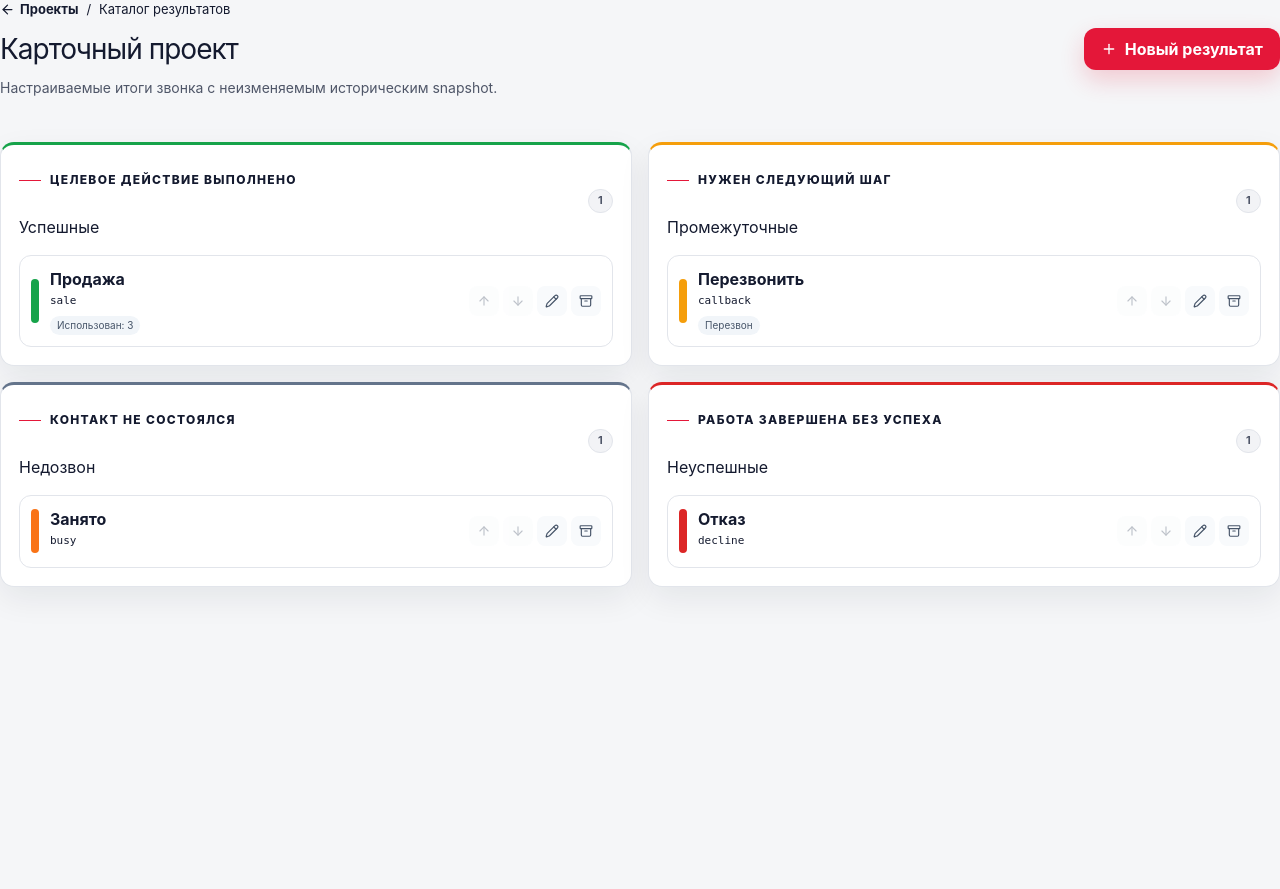
Test: project call result catalog › shows local validation feedback for an incomplete result
Click the button "Новый результат". click: point(1182, 49)
box: [1084,28,1279,70]
(page scrolled)
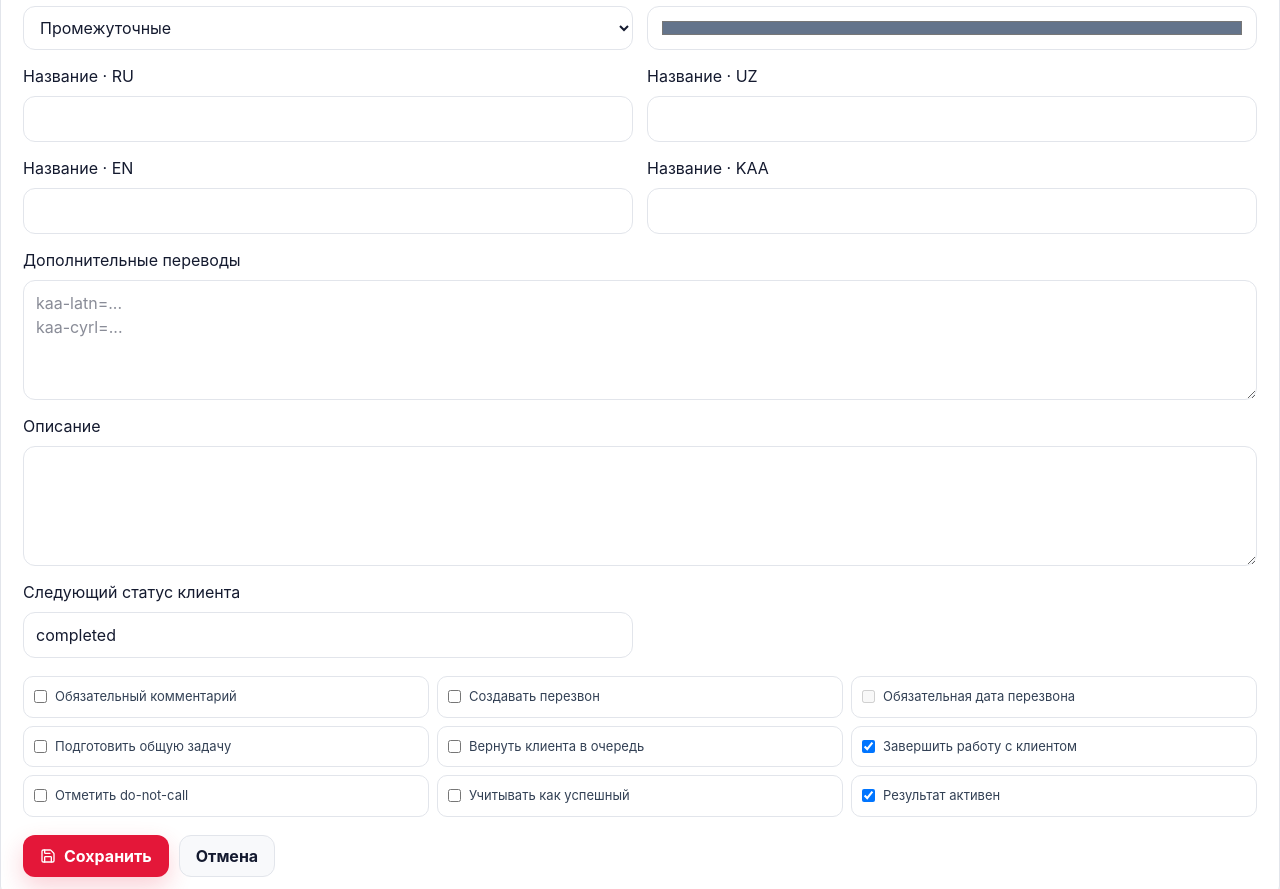
Click the button "Сохранить". click: point(96, 856)
box: [23,834,169,876]
(page scrolled)
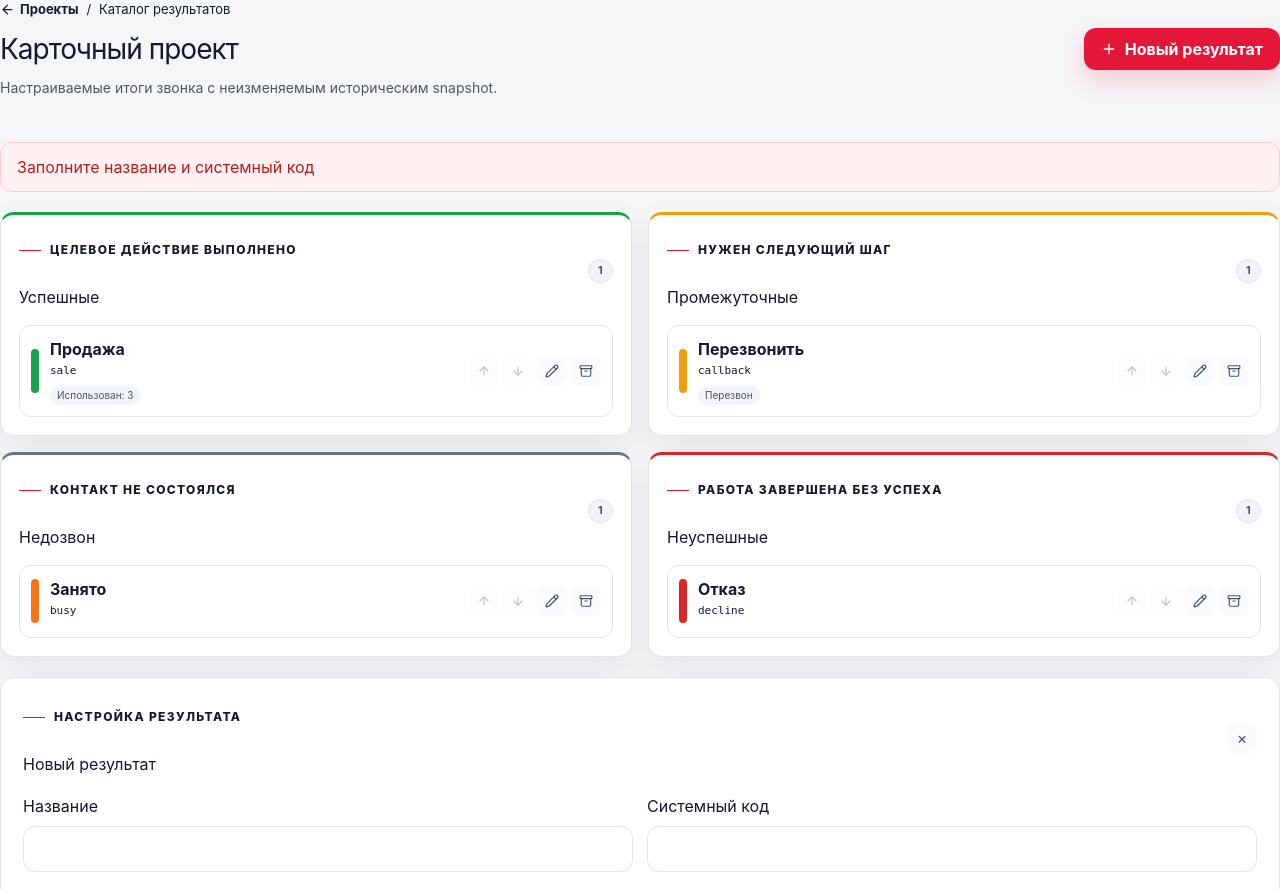
Expected: the text "Заполните название и системный код" is shown, [0,142,1279,192]
